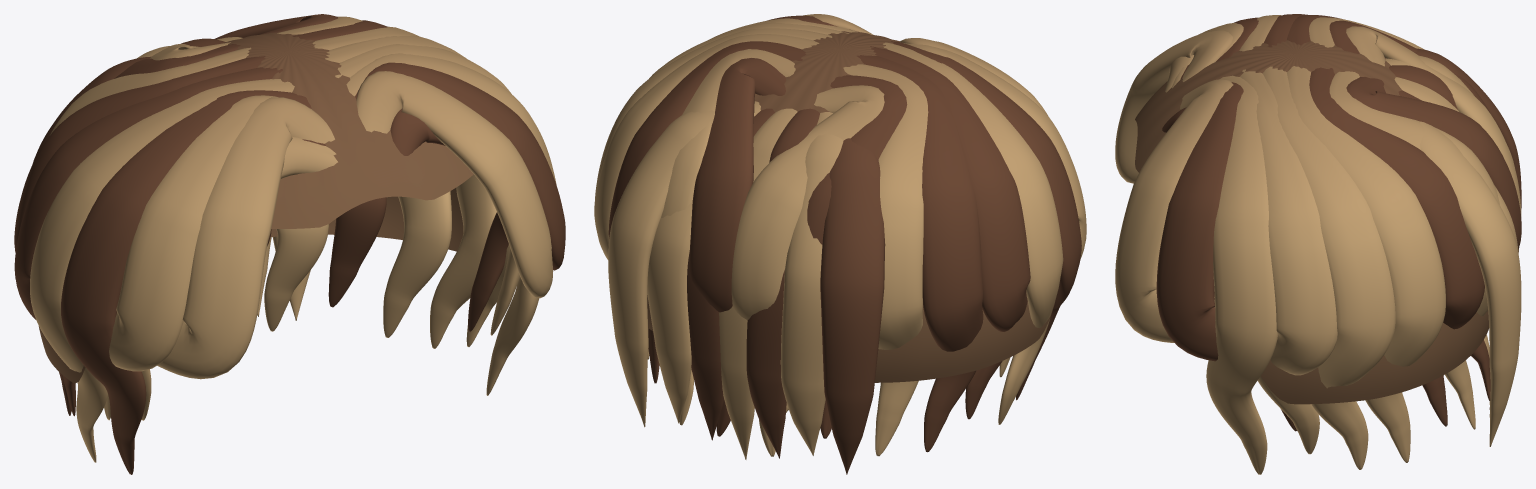
Rendered from Highlights-9325c347ff26251-hair.glb.
3 renders of one model, left to right at view 1: azimuth 30°, elevation 25°; view 2: azimuth 150°, elevation 25°; view 3: azimuth 270°, elevation 25°, orthographic. The views are drawn at different scales.
Visible parts, largest first — view 1: 226 hair / Hair / main251.001, 226 hair / Hair / accent251.001, 226 hair / Hair / recessed roots251.001; view 2: 226 hair / Hair / main251.001, 226 hair / Hair / accent251.001, 226 hair / Hair / recessed roots251.001; view 3: 226 hair / Hair / main251.001, 226 hair / Hair / accent251.001, 226 hair / Hair / recessed roots251.001.
Part boxes in pixels (<box>): 226 hair / Hair / main251.001: <box>14,14,565,474</box>; 226 hair / Hair / accent251.001: <box>30,16,556,462</box>; 226 hair / Hair / recessed roots251.001: <box>38,32,473,383</box>; 226 hair / Hair / main251.001: <box>595,15,1081,474</box>; 226 hair / Hair / accent251.001: <box>594,14,1086,459</box>; 226 hair / Hair / recessed roots251.001: <box>647,31,1054,382</box>; 226 hair / Hair / main251.001: <box>1115,14,1521,469</box>; 226 hair / Hair / accent251.001: <box>1115,15,1521,474</box>; 226 hair / Hair / recessed roots251.001: <box>1135,40,1488,404</box>.
Bounding box in the file's own units: 1.11 × 0.832 × 0.8725.
